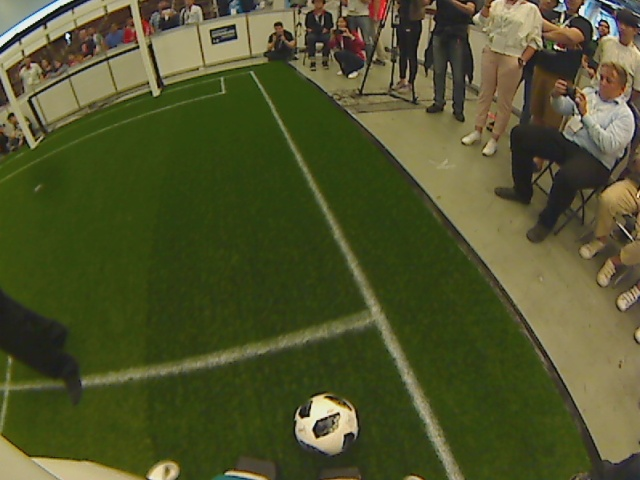ball: (291, 391, 359, 461)
